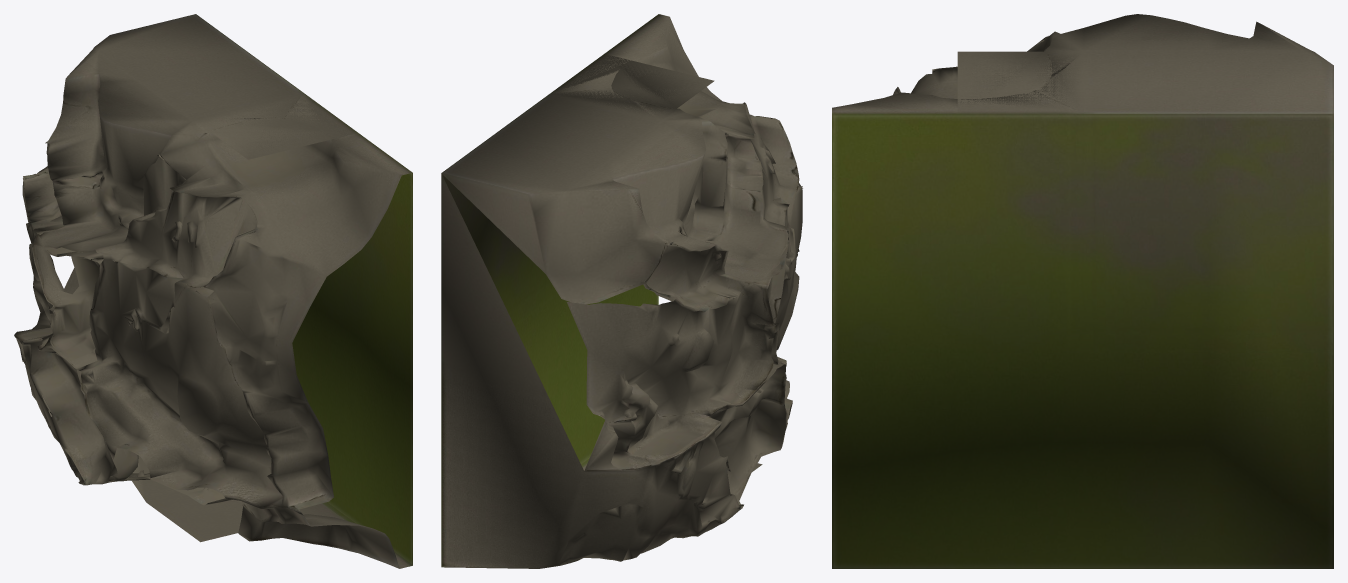
The model's file is cave-stone-wall.glb.
The picture shows the model from 3 angles, left to right: view 1: azimuth 30°, elevation 25°; view 2: azimuth 150°, elevation 25°; view 3: azimuth 270°, elevation 25°; orthographic projection. The views are drawn at different scales.
Parts seen in each view (by area): view 1: tripo_node_cdfe5b72-2143-47f2-83c7-01578245b4a8; view 2: tripo_node_cdfe5b72-2143-47f2-83c7-01578245b4a8; view 3: tripo_node_cdfe5b72-2143-47f2-83c7-01578245b4a8.
Boxes of the visible parts, x1=… form: tripo_node_cdfe5b72-2143-47f2-83c7-01578245b4a8: x1=14, y1=14, x2=412, y2=568; tripo_node_cdfe5b72-2143-47f2-83c7-01578245b4a8: x1=441, y1=14, x2=802, y2=568; tripo_node_cdfe5b72-2143-47f2-83c7-01578245b4a8: x1=832, y1=14, x2=1333, y2=568.
Bounding box in the file's own units: 0.6504 × 0.998 × 0.998.
1 material, 1 textured.
